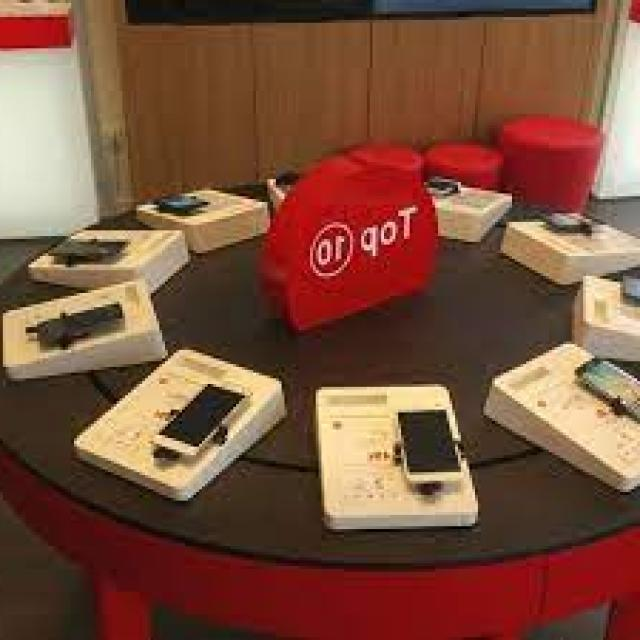mobile: (152, 383, 254, 464), (395, 405, 462, 489), (33, 292, 125, 350), (575, 360, 634, 421), (37, 234, 130, 262), (538, 208, 606, 232), (416, 170, 465, 196), (153, 191, 208, 214), (608, 271, 640, 309), (270, 168, 304, 192)
